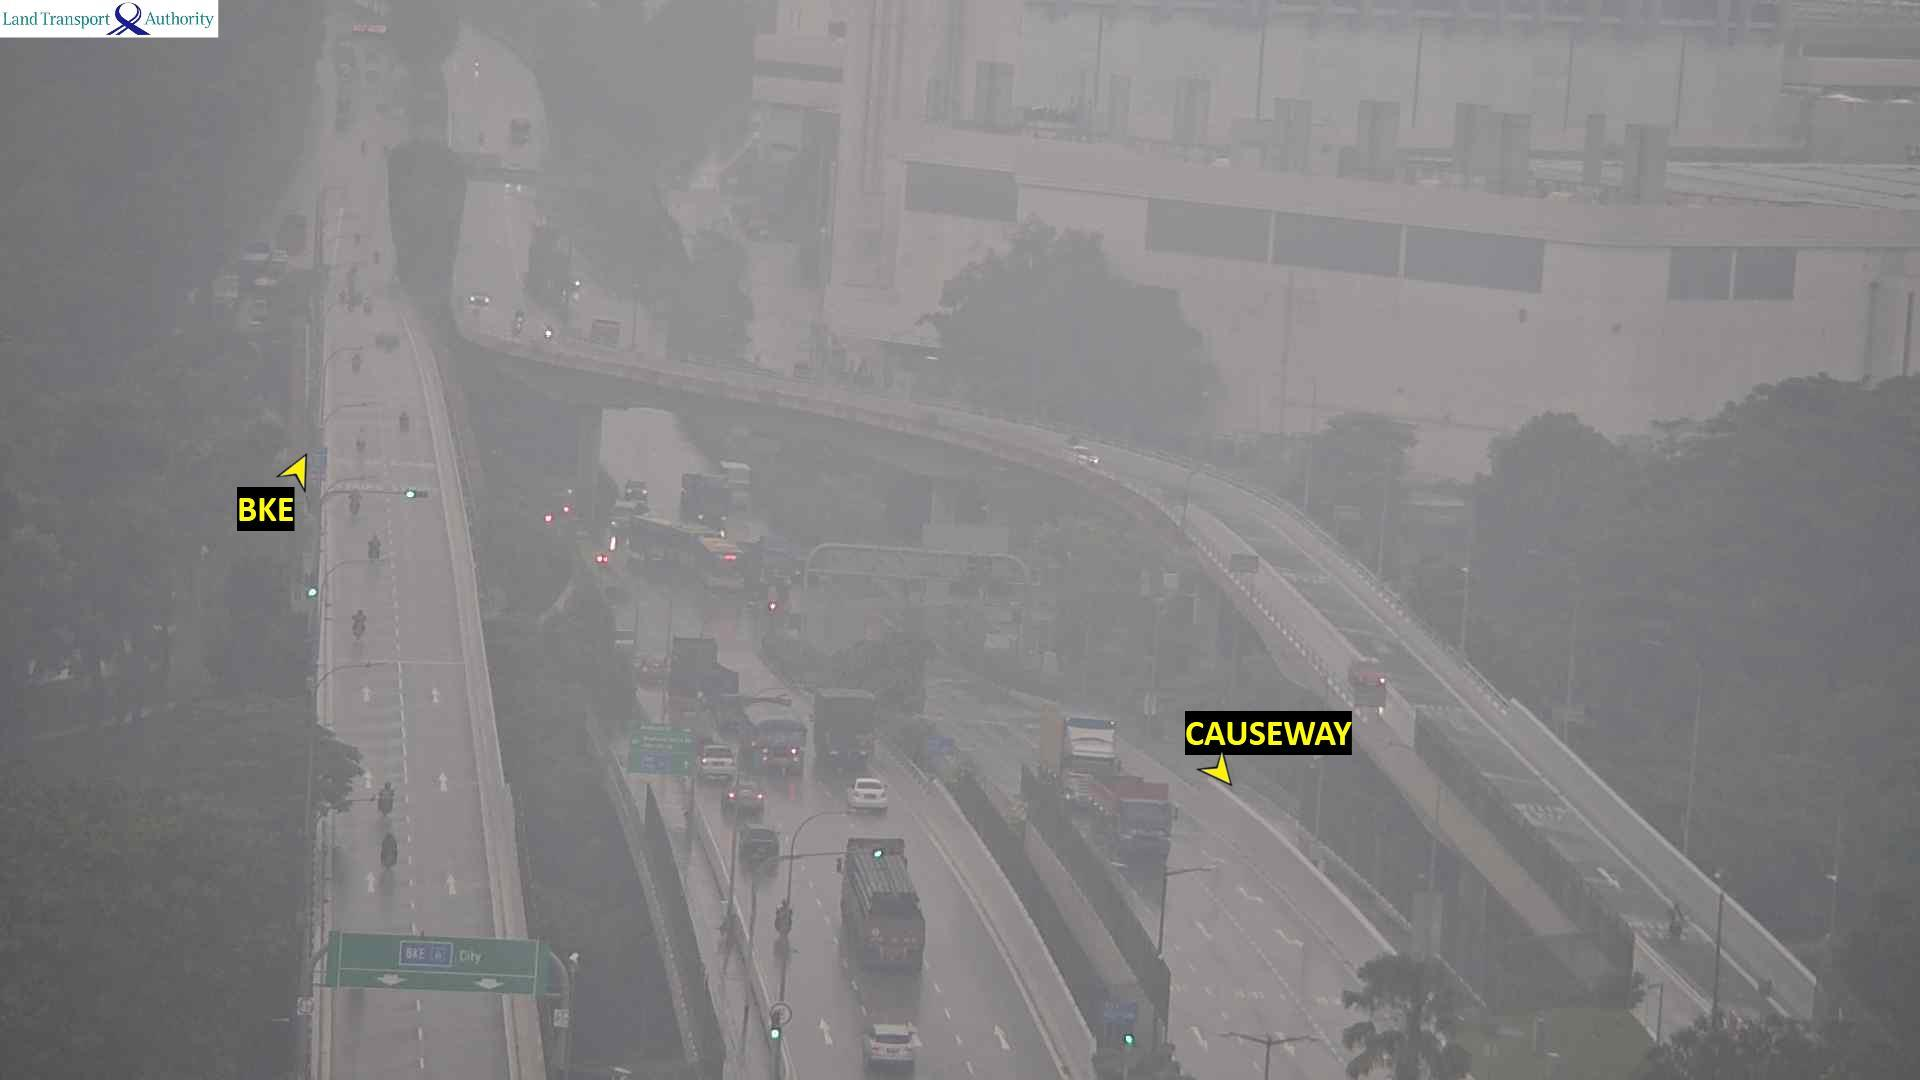vehicle-causeway-johor: (1039, 711, 1122, 808), (1091, 778, 1174, 866), (1352, 651, 1389, 690), (1064, 436, 1097, 468), (468, 284, 488, 309), (512, 307, 524, 334), (545, 324, 554, 342)
vehicle-causeway-singapore: (839, 837, 926, 975), (815, 692, 877, 762), (749, 713, 806, 773), (862, 1022, 914, 1069), (721, 778, 765, 816), (745, 825, 781, 868), (694, 740, 732, 778), (848, 777, 887, 811), (380, 833, 397, 869), (778, 902, 796, 932), (368, 530, 384, 564), (345, 488, 361, 522), (375, 781, 392, 808), (352, 609, 365, 640), (355, 426, 367, 451), (401, 410, 410, 433)
